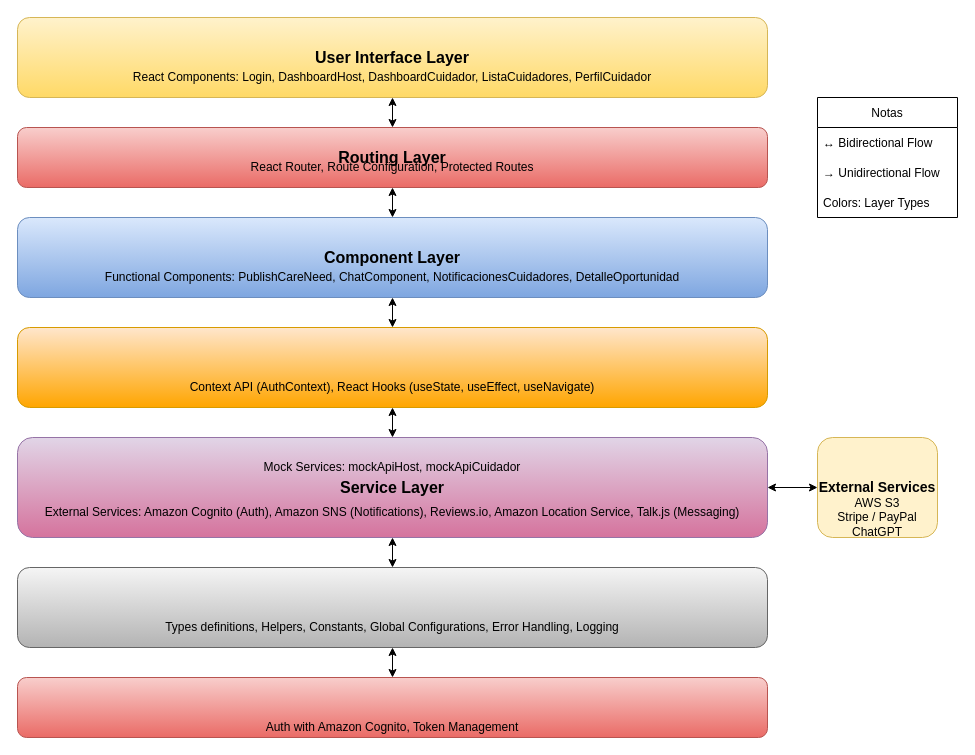
This 975x755 diagram has some shape labels left out. Here are the shapes that lost their labels. From the top down, the box of each, then its label:
(16, 326, 768, 408): State Management Layer
(16, 566, 768, 648): Utility Layer
(16, 676, 768, 738): Security Layer
